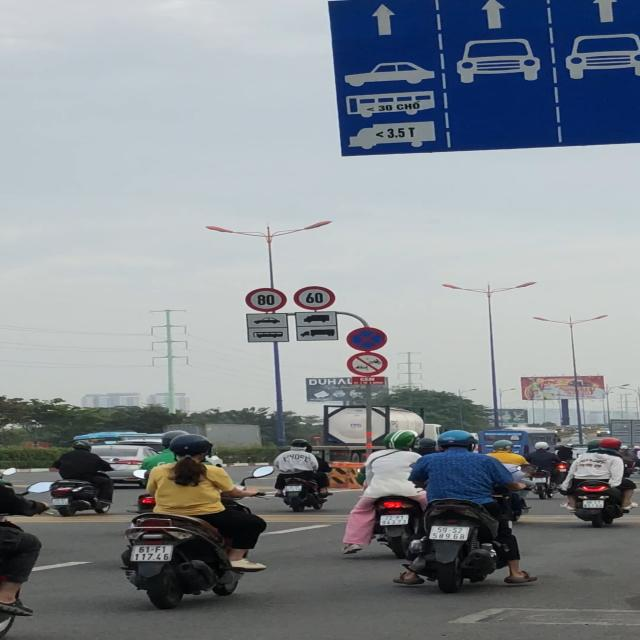Bien bao cam dung xe va do xe: (345, 326, 391, 353)
Bien bao toc do toi da cho phep: (244, 287, 288, 313), (292, 286, 336, 311)
